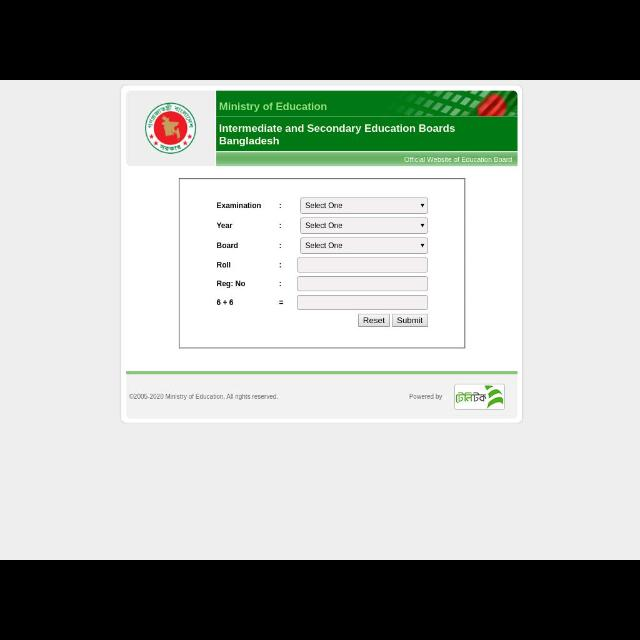icon: (418, 200, 426, 208), (419, 242, 427, 250), (420, 222, 426, 230)
image: (126, 92, 216, 164), (455, 384, 505, 410)
input: (297, 276, 428, 292), (297, 294, 428, 310), (297, 258, 429, 272)
spinner: (300, 198, 428, 214), (300, 238, 428, 252), (300, 218, 428, 232)
text: (218, 124, 456, 146), (128, 392, 280, 404), (218, 101, 330, 112), (402, 154, 514, 164), (215, 201, 261, 211), (304, 240, 344, 250), (408, 392, 444, 402), (304, 202, 344, 210), (305, 221, 343, 229), (362, 316, 386, 326), (217, 280, 246, 288), (396, 316, 424, 324), (216, 220, 234, 230), (216, 242, 238, 250), (215, 298, 235, 306), (215, 261, 232, 269)
textbutton: (392, 315, 428, 327), (359, 314, 391, 326)
